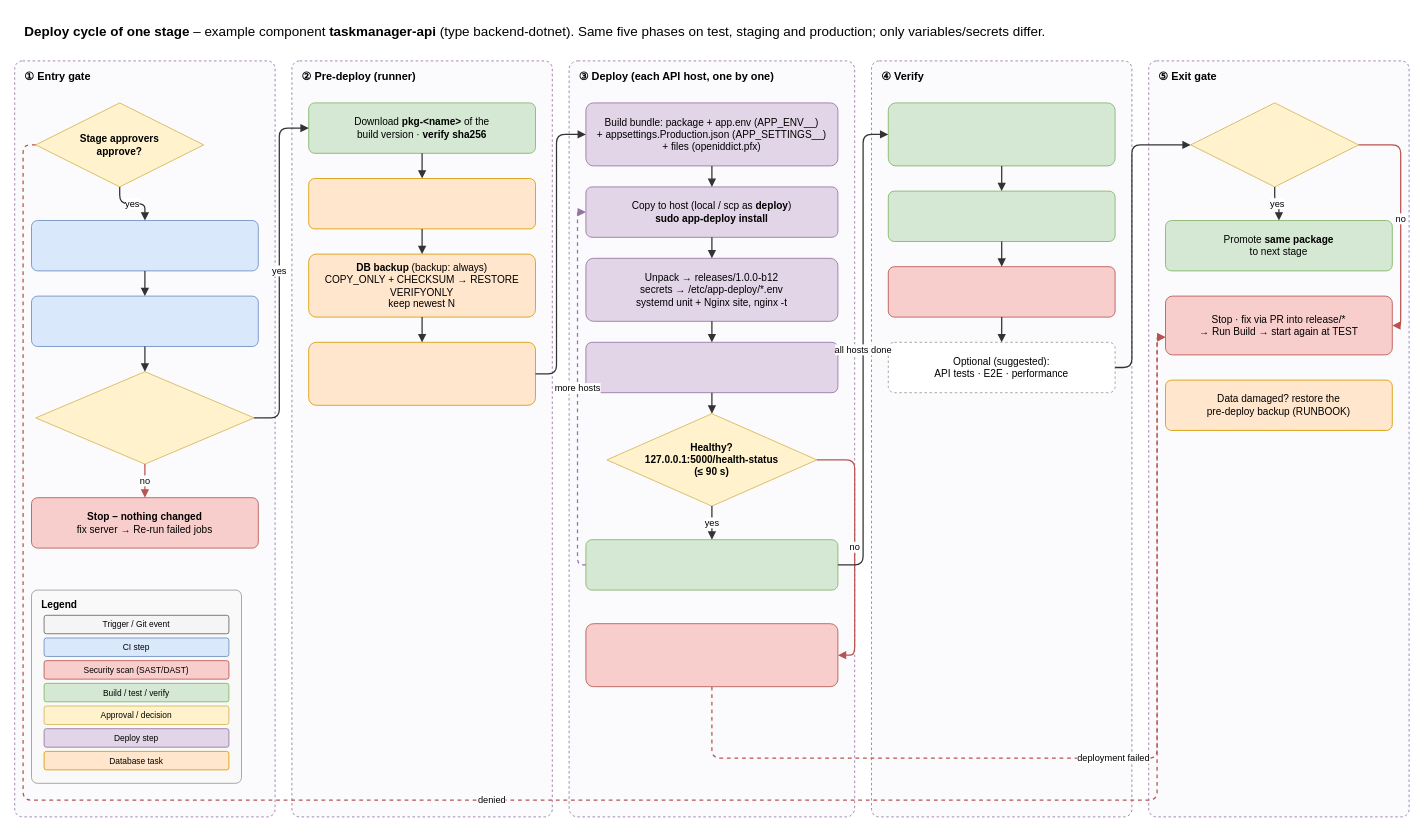
This 1424x832 diagram has some shape labels left out. The centre of each missing label's shape, as x and y in pixels:
All checks passed?: the point at 1274,144
Atomic switch current → b12 restart service: the point at 711,367
Automatic rollback current → previous, restart job fails, users keep old version: the point at 711,655
Concurrency lock one deploy per env + component: the point at 144,245
Contract smoke (integration-api) OpenAPI paths + /health/ready: the point at 1001,216
DAST – OWASP ZAP API scan (test stage only): the point at 1001,291
DbMigrator migrations + ABP seed DB_CONNECTION__TASKMANAGER_API: the point at 422,373
Keep release, prune old (keep 5) → next host: the point at 711,564
Pending migrations? migrations.json vs __EFMigrationsHistory: the point at 422,203
Preflight environment ready? (app-deploy check · SSH · SQL): the point at 144,417
Runner env-<stage> picks the job reads environment vars + secrets: the point at 144,320
Smoke via public URL https://api…/health-status → 2xx (Nginx + TLS + DNS): the point at 1001,134
